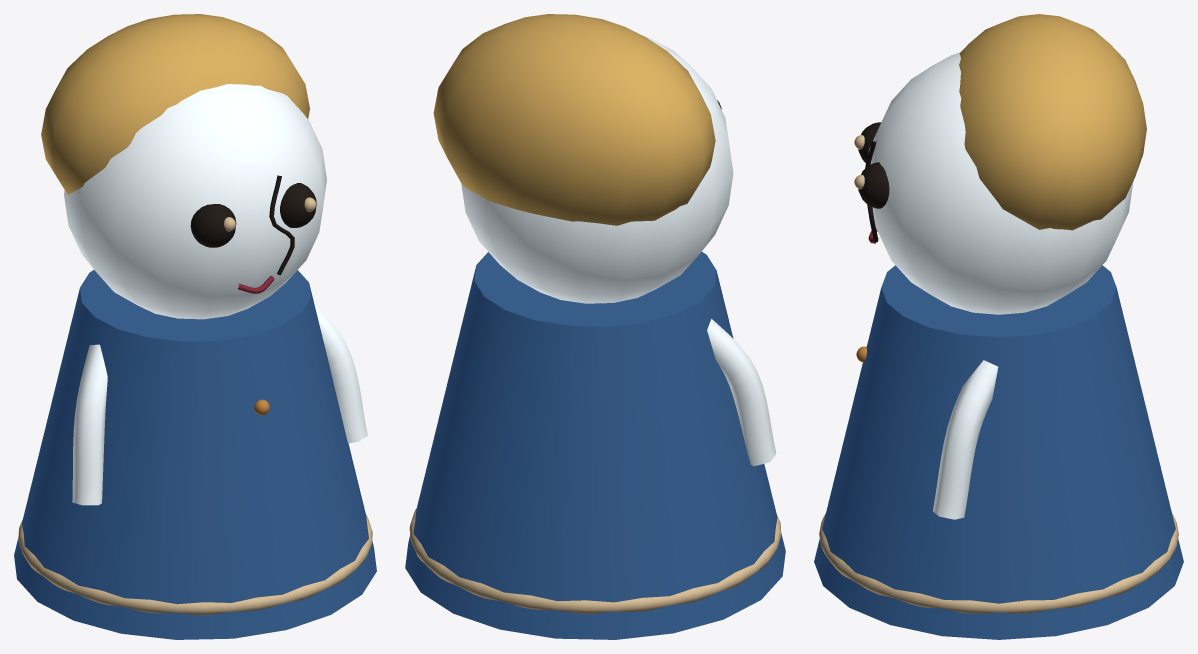
File: mia-doll_big.glb
The picture shows the model from 3 angles, left to right: view 1: azimuth 30°, elevation 25°; view 2: azimuth 150°, elevation 25°; view 3: azimuth 270°, elevation 25°; orthographic projection. The views are drawn at different scales.
Visible parts, largest first — view 1: Body_night-glass, Body_porcelain, Body_hay-light, Body_ivory, Body_black; view 2: Body_night-glass, Body_hay-light, Body_porcelain, Body_ivory; view 3: Body_night-glass, Body_porcelain, Body_hay-light, Body_ivory, Body_black.
Part boxes in pixels (x1,y1,x2,y2): Body_night-glass: (14, 270, 376, 639); Body_porcelain: (64, 84, 367, 505); Body_hay-light: (41, 14, 309, 194); Body_ivory: (18, 197, 372, 615); Body_black: (190, 175, 316, 275); Body_night-glass: (405, 252, 785, 639); Body_hay-light: (433, 14, 715, 225); Body_porcelain: (461, 34, 776, 466); Body_ivory: (409, 508, 781, 613); Body_night-glass: (814, 265, 1183, 639); Body_porcelain: (868, 53, 1133, 519); Body_hay-light: (959, 14, 1146, 230); Body_ivory: (819, 135, 1178, 613); Body_black: (858, 122, 889, 242).
Bounding box in the file's own units: 1.1 × 1.74 × 1.1.
